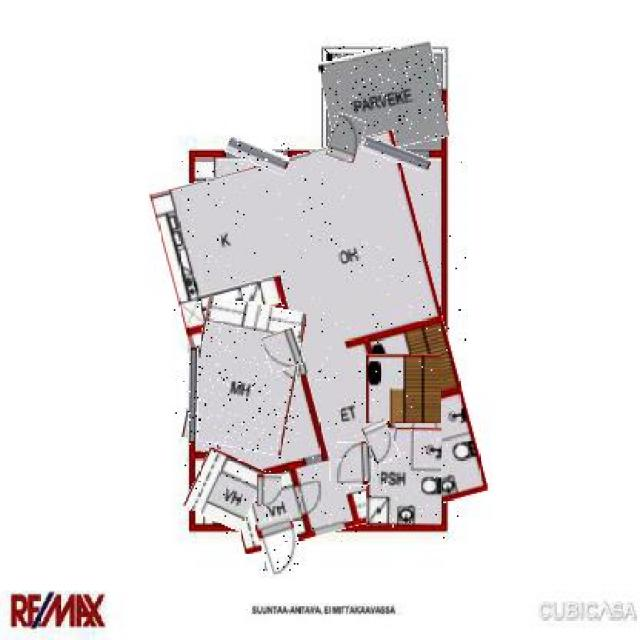door: (259, 516, 303, 576), (331, 443, 374, 486), (328, 114, 363, 161), (265, 330, 303, 372), (366, 420, 397, 463), (257, 474, 281, 506)
window: (226, 140, 289, 171), (362, 142, 431, 168), (188, 348, 198, 443)
zone: (172, 144, 466, 542), (188, 300, 300, 452), (323, 46, 446, 154), (366, 428, 442, 526), (189, 452, 262, 526), (368, 354, 442, 423)
